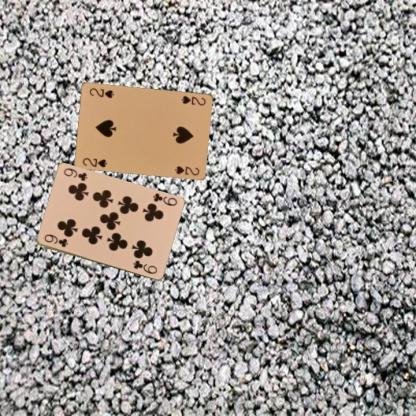2s: (80, 155, 109, 169), (179, 93, 207, 107)
9c: (150, 191, 178, 208), (42, 232, 68, 248)
